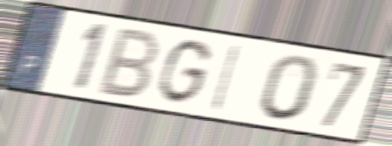1: (73, 21, 110, 93)
7: (318, 59, 369, 129)
B: (94, 25, 162, 101)
G: (156, 37, 214, 107)
I: (208, 41, 244, 113)
O: (258, 52, 320, 124)
